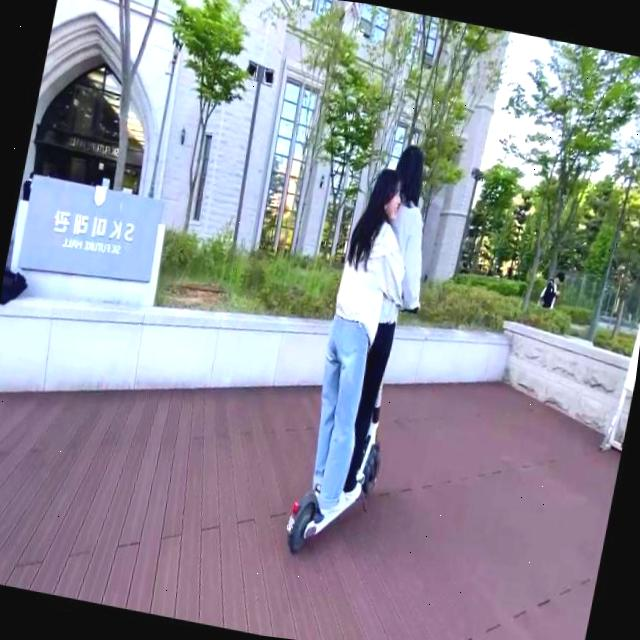bare_head: (365, 160, 404, 232), (397, 142, 434, 197)
human: (333, 139, 439, 485), (301, 164, 403, 500)
kickboard: (277, 431, 400, 561)
